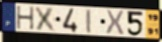4: (62, 7, 80, 34)
5: (126, 10, 145, 37)
H: (15, 6, 35, 31)
I: (85, 8, 93, 34)
X: (33, 6, 58, 32), (105, 9, 125, 36)
